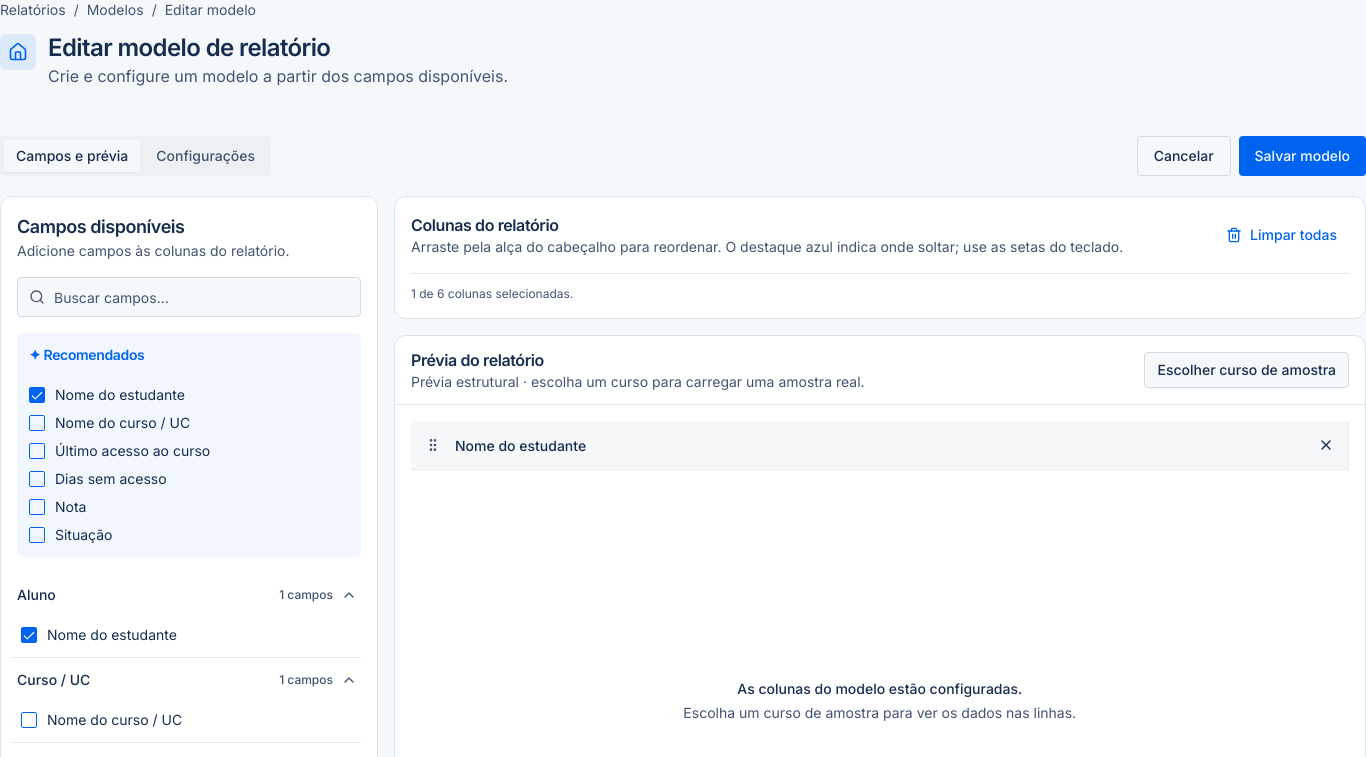
Test: editor de modelos › preserves the edited draft and captured revision after a 409
Expected: the heading "Colunas do relatório" is shown, [411,215,558,235]
Step 1. Click the tab "Configurações" → (206, 156), box [144,140,267,172]
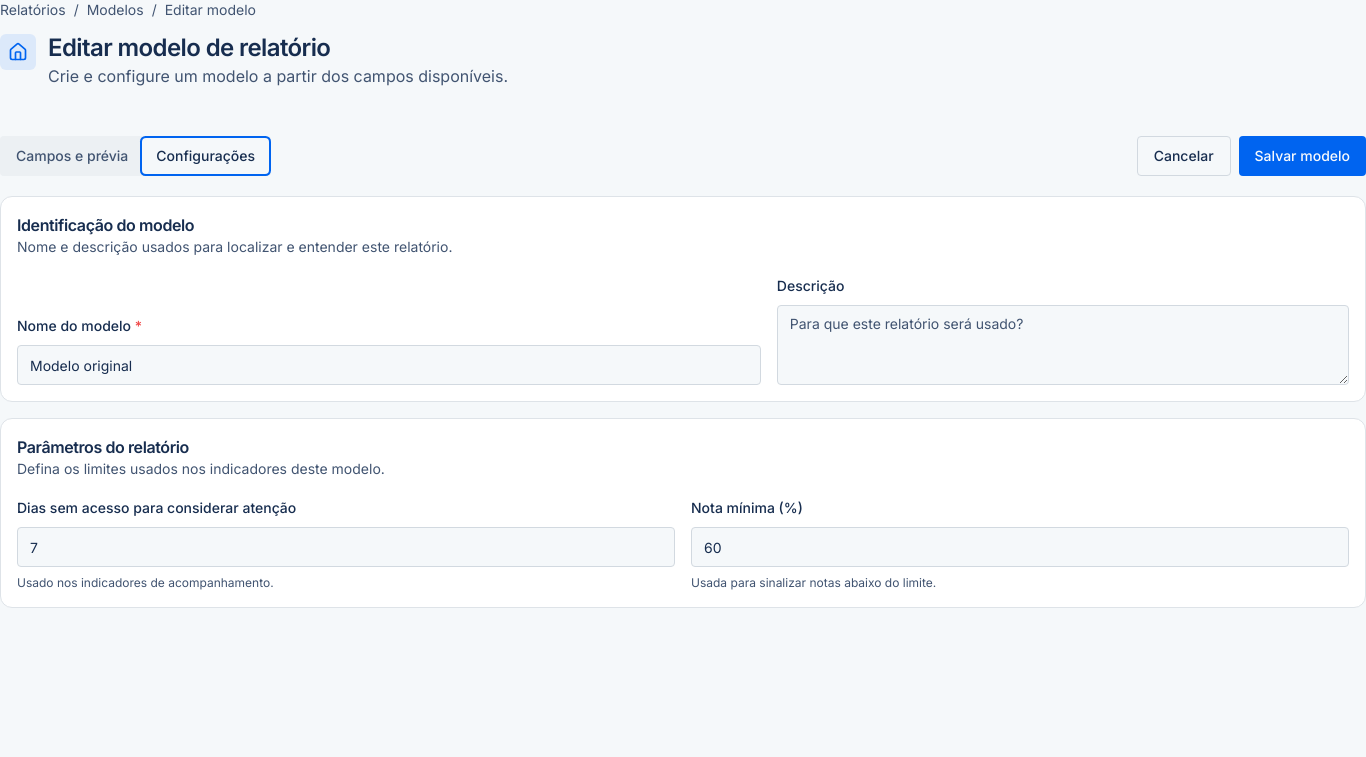
Expected: the field showing "Modelo original" is shown
Step 2. Replace the text in the field labelled "Nome do modelo" with "Meu rascunho" → (389, 365), box [17,345,761,385]
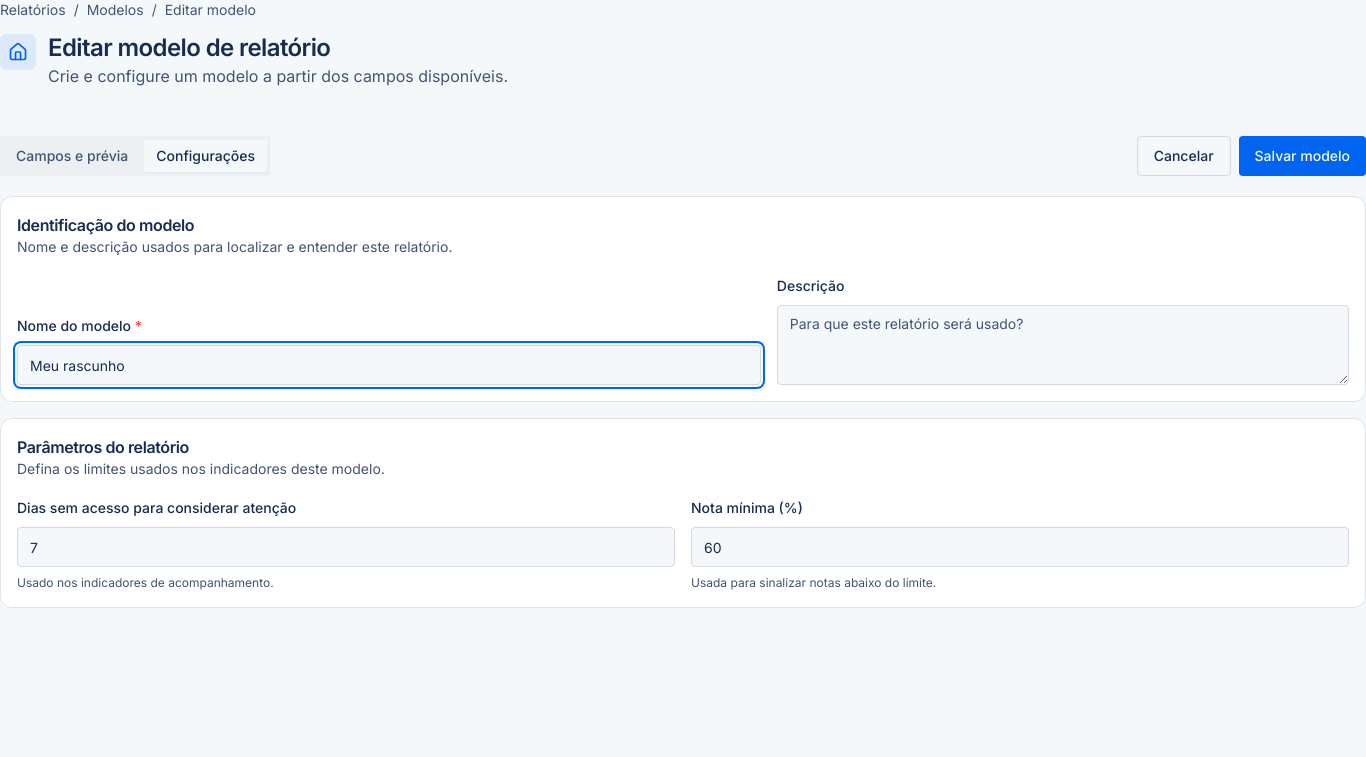
Step 3. Click the button "Salvar modelo" → (1302, 156), box [1239,136,1365,176]
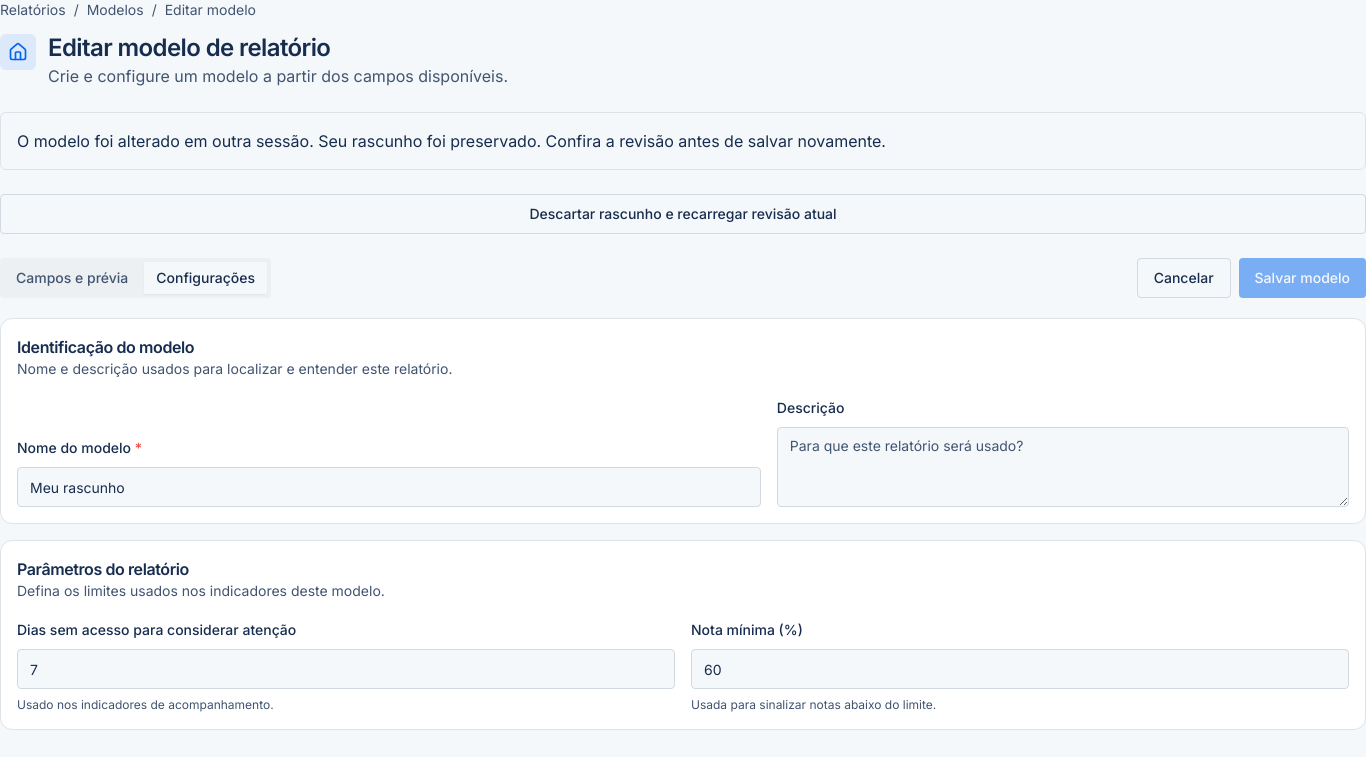
Expected: the text "Seu rascunho foi preservado" is shown, [17,131,886,151]
